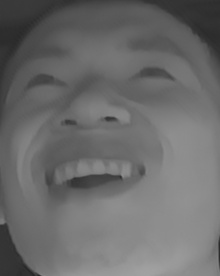eye: (125, 58, 184, 92), (21, 67, 71, 96)
mouth: (31, 139, 148, 205)
